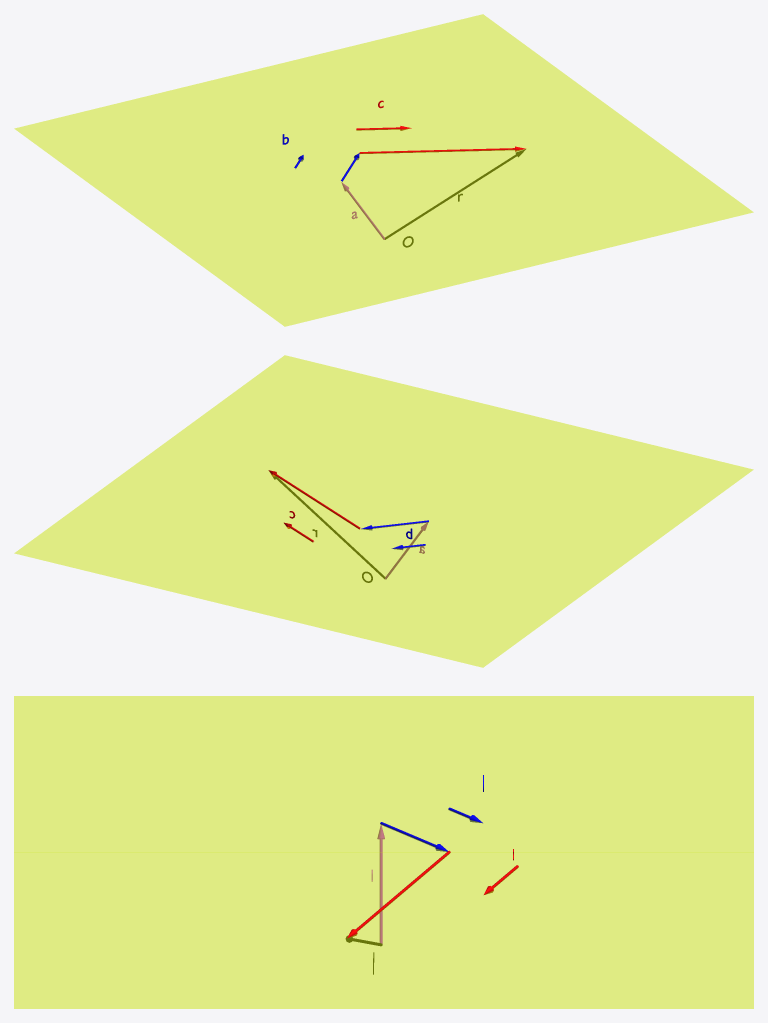
3 renders of one model, top to bottom at view 1: azimuth 30°, elevation 25°; view 2: azimuth 150°, elevation 25°; view 3: azimuth 270°, elevation 25°, orthographic. The views are drawn at different scales.
Visible parts, largest first — view 1: f; view 2: f; view 3: f.
Boxes of the visible parts, <box> form: f: <box>14,14,753,326</box>; f: <box>14,355,753,667</box>; f: <box>14,696,753,1008</box>.
Size of the model in its own units: 0.217 by 0.046 by 0.217.
